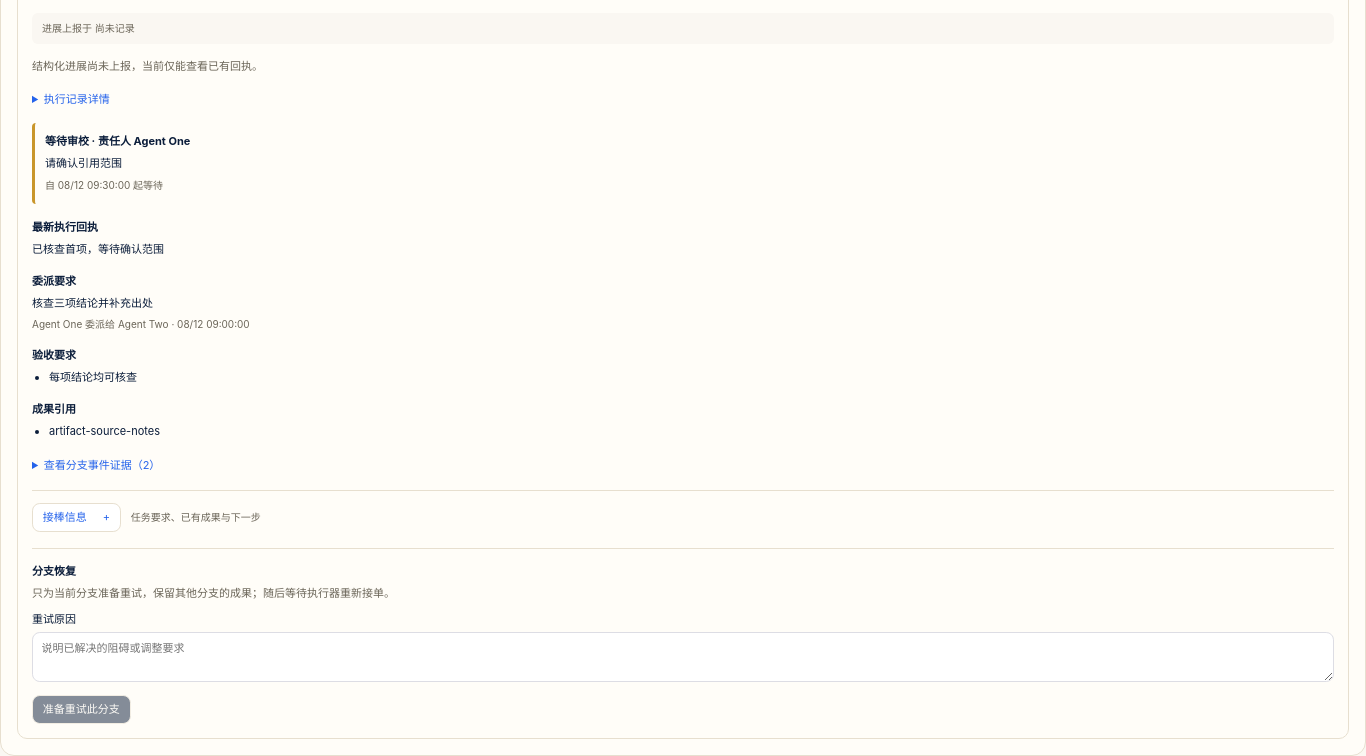
Test case: 任务协作现场 › 只向选中子卡准备重试，并明确尚未启动执行
(page scrolled)
Expected: the button "准备重试此分支" is disabled, [32,695,130,724]
Step 1. Type "引用范围已经确认" into the text box labelled "重试原因" → coordinates (683, 657), box [32,632,1334,682]
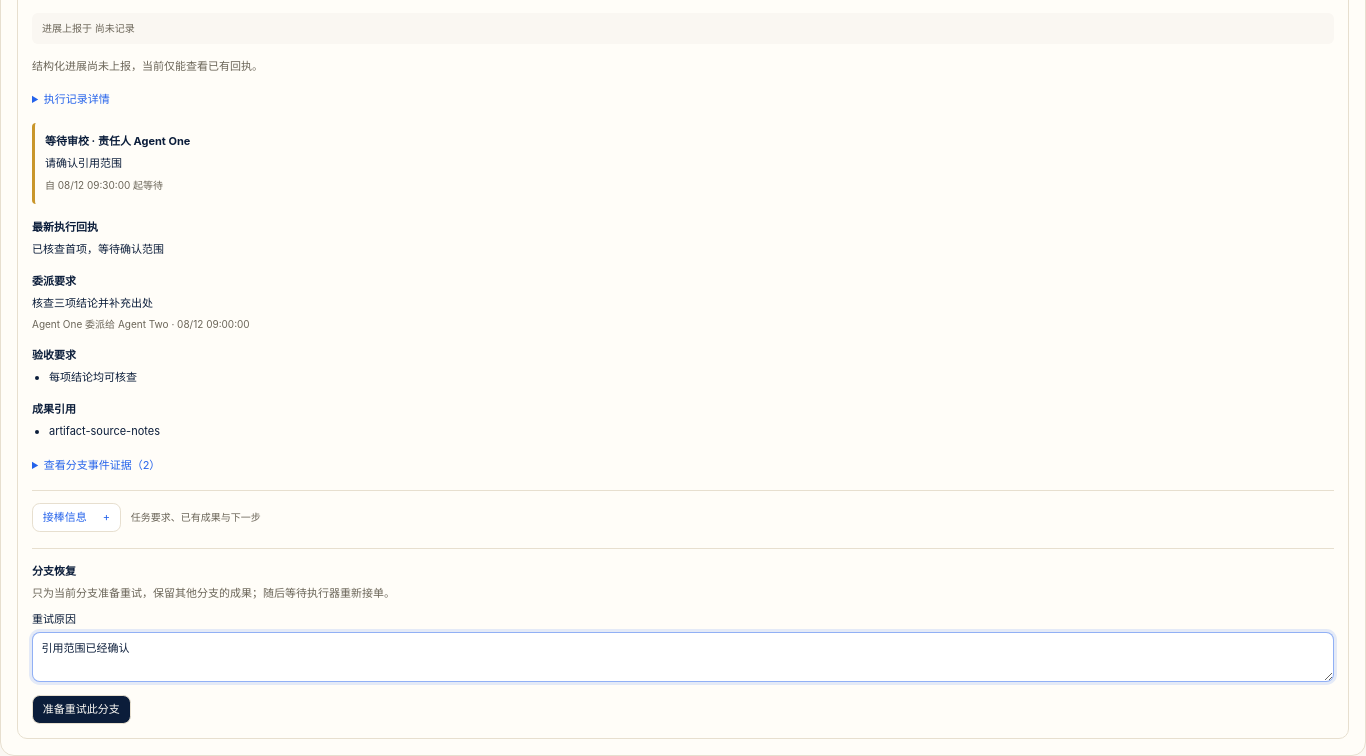
Step 2. Click the button "准备重试此分支" → coordinates (81, 710), box [32,695,130,724]
(page scrolled)
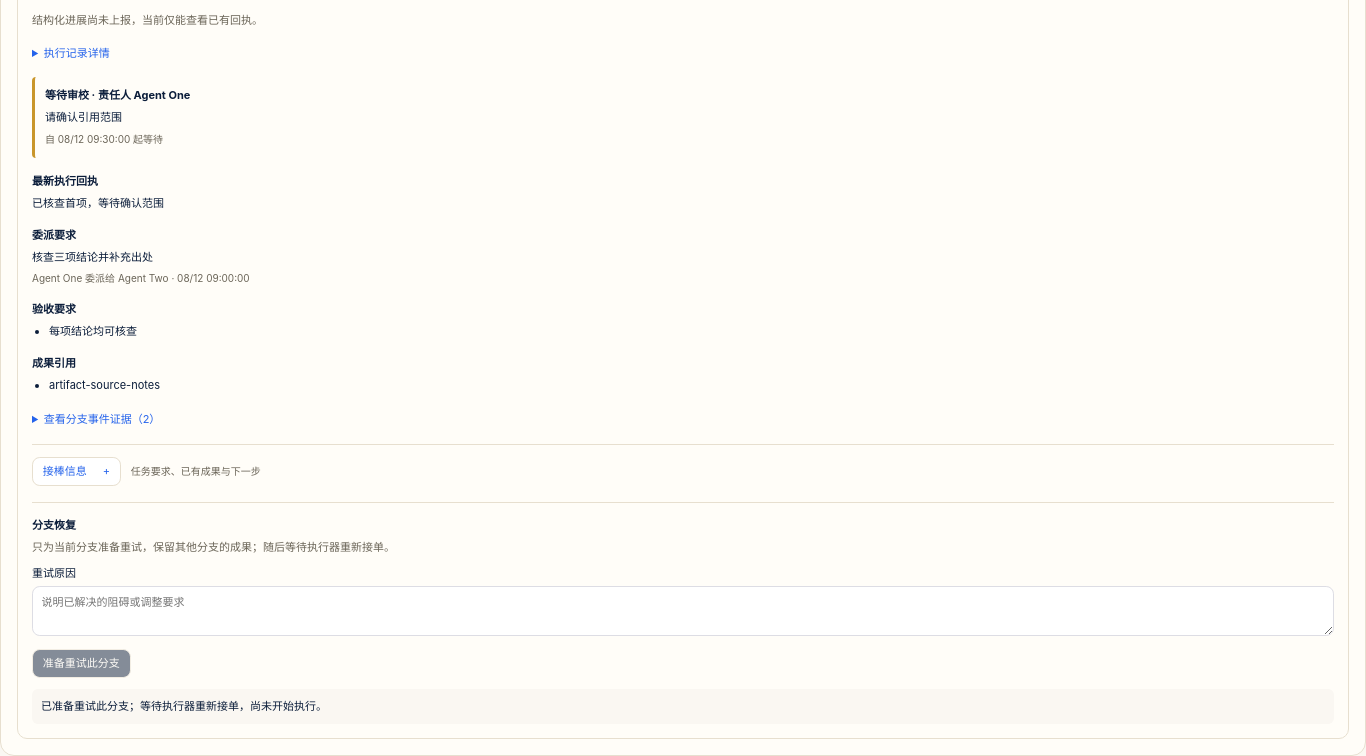
Result: the text "已准备重试此分支；等待执行器重新接单，尚未开始执行。" is shown at [32,689,1334,724]
